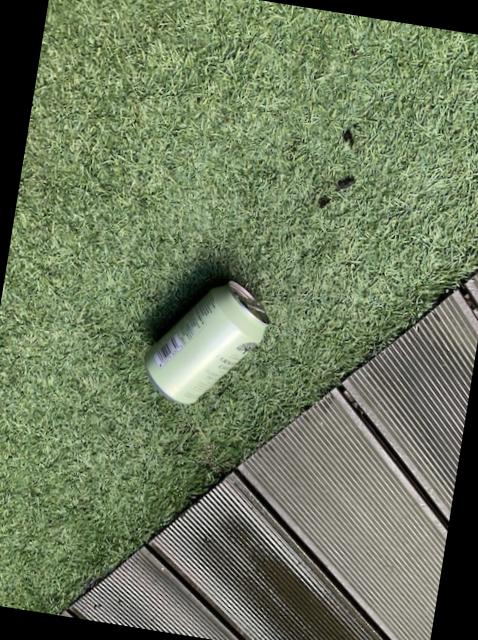metal: (61, 275, 478, 640)
